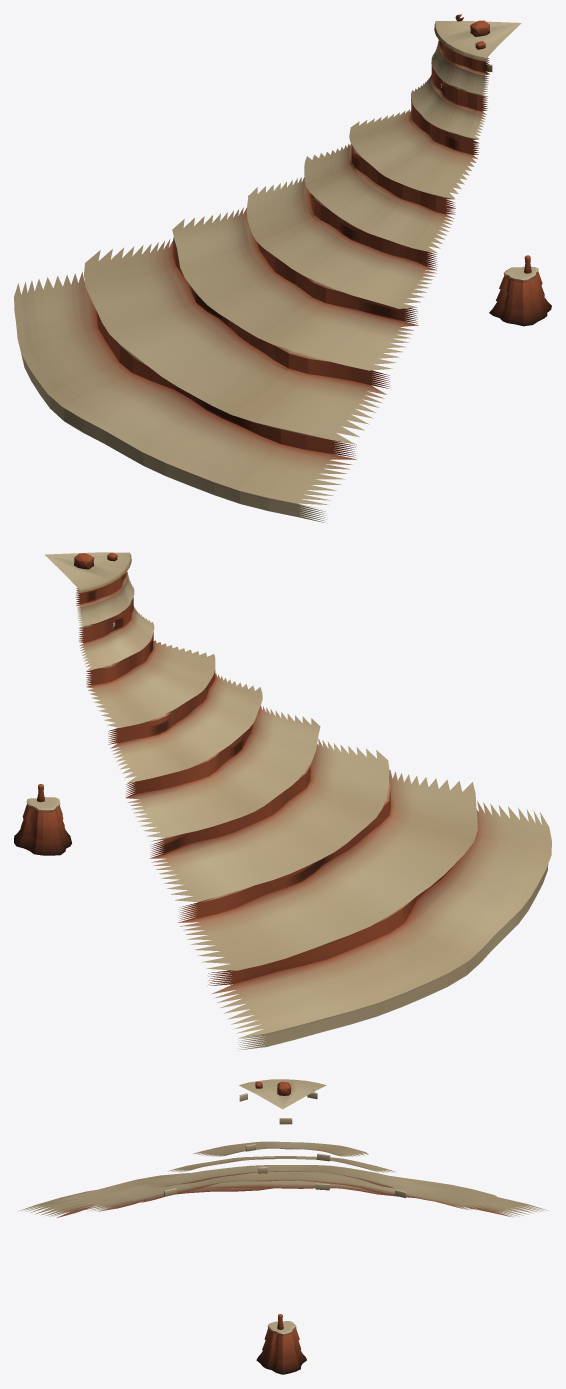
File: canyon-s4-X81nLf22.glb
The picture shows the model from 3 angles, top to bottom: view 1: azimuth 30°, elevation 25°; view 2: azimuth 150°, elevation 25°; view 3: azimuth 270°, elevation 25°; orthographic projection. The views are drawn at different scales.
Visible parts, largest first — view 1: sc_landmark_2, sc_mesa_0; view 2: sc_landmark_2, sc_mesa_0; view 3: sc_landmark_2, sc_mesa_0.
Boxes of the visible parts, x1,y1,x2,y2 form: sc_landmark_2: (14, 14, 521, 522); sc_mesa_0: (489, 255, 551, 326); sc_landmark_2: (44, 552, 551, 1050); sc_mesa_0: (14, 784, 71, 855); sc_landmark_2: (18, 1079, 548, 1217); sc_mesa_0: (256, 1314, 306, 1374).
Size of the model in its own units: 461 by 291 by 521.
